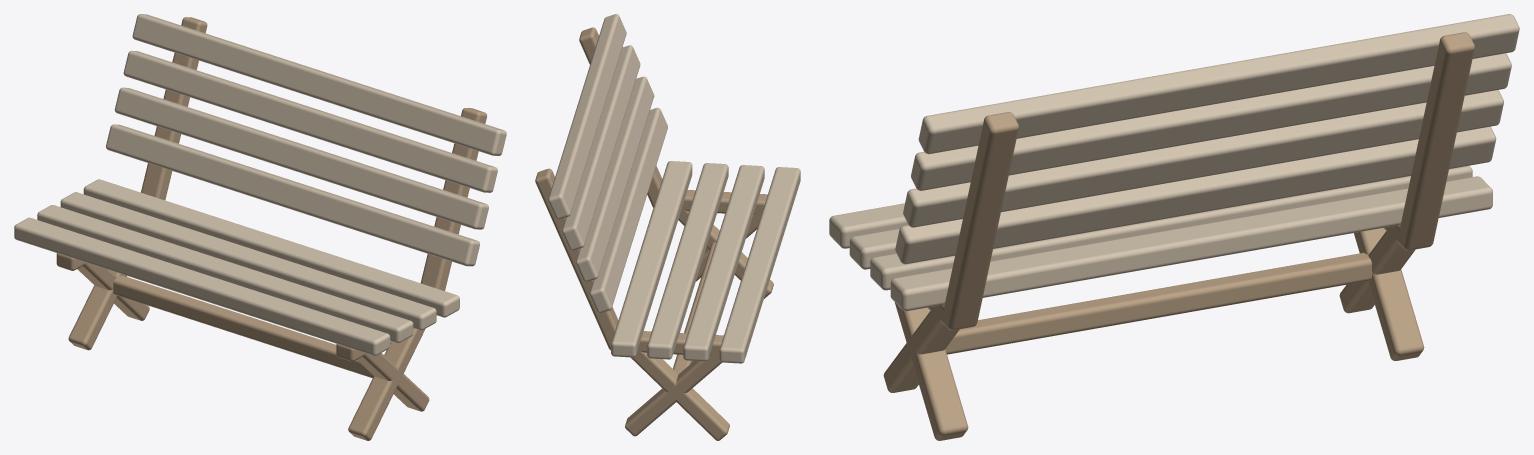
File: Bench.glb
The picture shows the model from 3 angles, left to right: view 1: azimuth 30°, elevation 25°; view 2: azimuth 150°, elevation 25°; view 3: azimuth 270°, elevation 25°; orthographic projection. The views are drawn at different scales.
Parts seen in each view (by area): view 1: Mesh_Mesh_head_geo.001_lambert2SG.001; view 2: Mesh_Mesh_head_geo.001_lambert2SG.001; view 3: Mesh_Mesh_head_geo.001_lambert2SG.001.
Part boxes in pixels (x1,y1,x2,y2): Mesh_Mesh_head_geo.001_lambert2SG.001: (14,14,506,440); Mesh_Mesh_head_geo.001_lambert2SG.001: (535,14,800,440); Mesh_Mesh_head_geo.001_lambert2SG.001: (829,14,1519,440).
Size of the model in its own units: 38.91 by 31.04 by 51.76.
